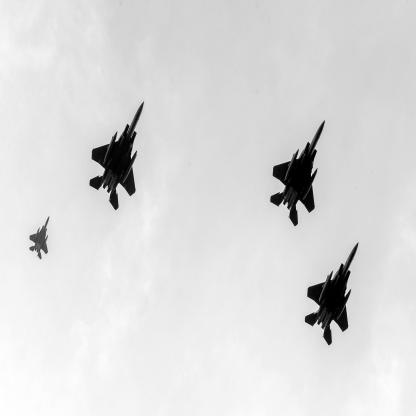F15: (91, 102, 145, 211), (271, 121, 326, 227), (306, 243, 360, 347), (31, 217, 51, 261)
